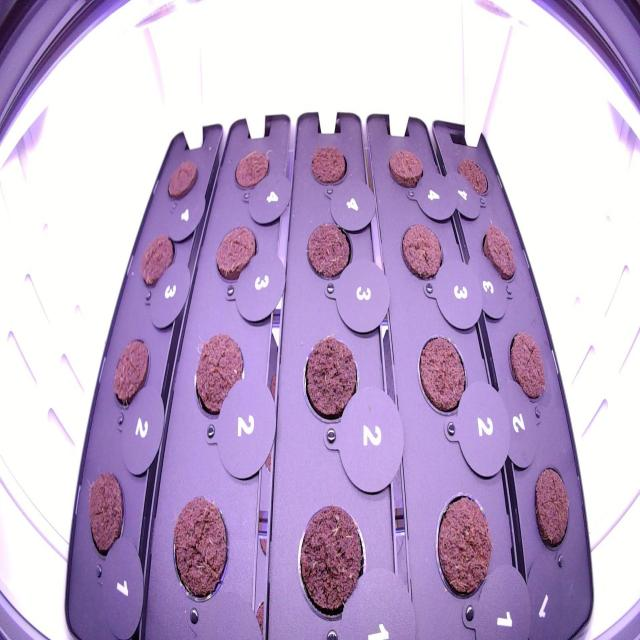pod: (290, 499, 372, 628), (428, 478, 496, 611), (166, 491, 235, 606), (297, 332, 364, 427), (409, 326, 472, 426), (189, 327, 249, 428), (528, 456, 575, 556), (80, 466, 128, 562), (502, 320, 550, 406), (301, 218, 355, 286), (108, 329, 152, 411), (396, 216, 448, 283), (211, 220, 260, 288), (475, 215, 519, 287), (304, 136, 352, 193), (136, 229, 178, 291), (382, 142, 428, 198), (453, 142, 491, 206), (227, 143, 272, 197), (161, 152, 201, 205)
